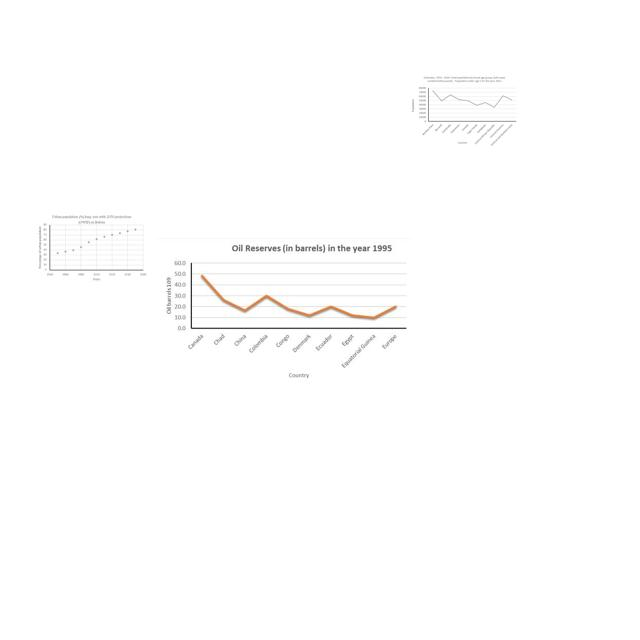Graph: (157, 238, 413, 387), (410, 75, 518, 148), (35, 213, 148, 282)
